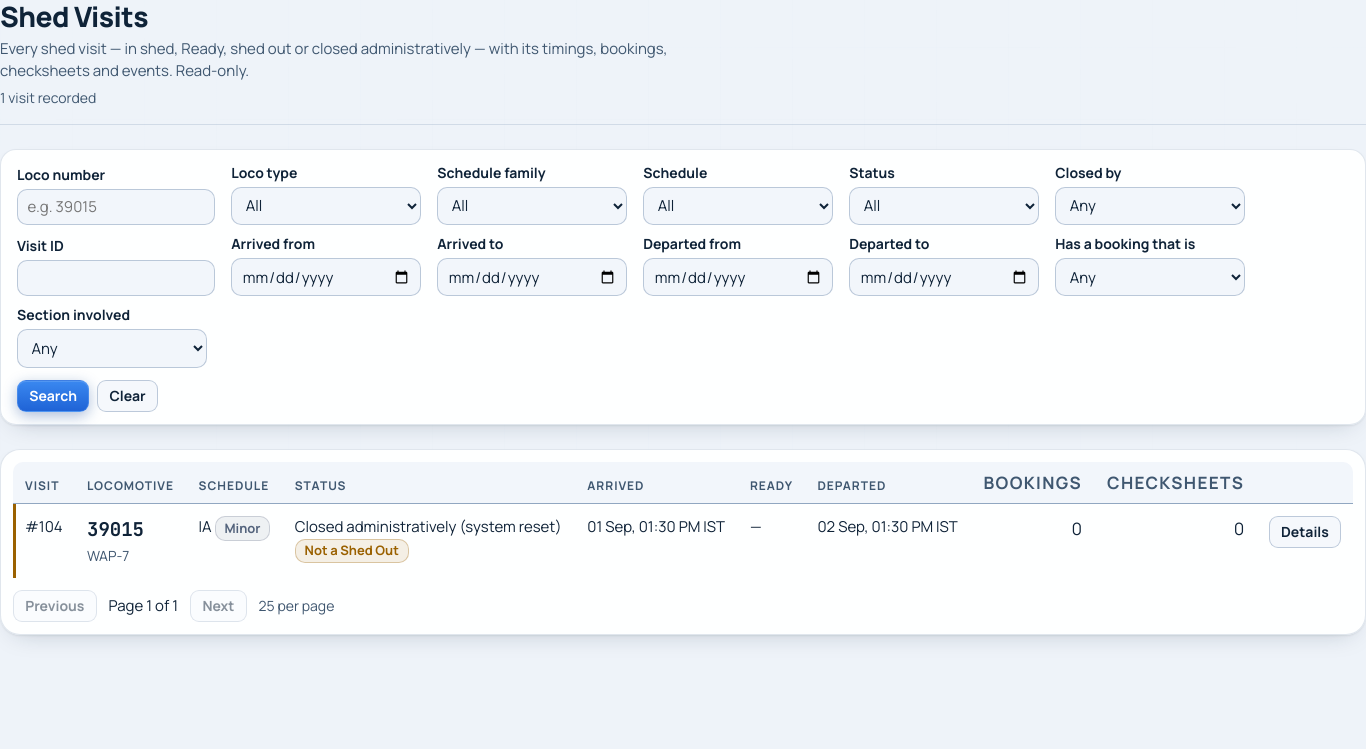
Test case: Shed Visit History - one visit opened › names an administrative reset in the detail too
The image size is (1366, 749).
Click the button "Details".
click(1305, 532)  # box [1269, 516, 1341, 548]
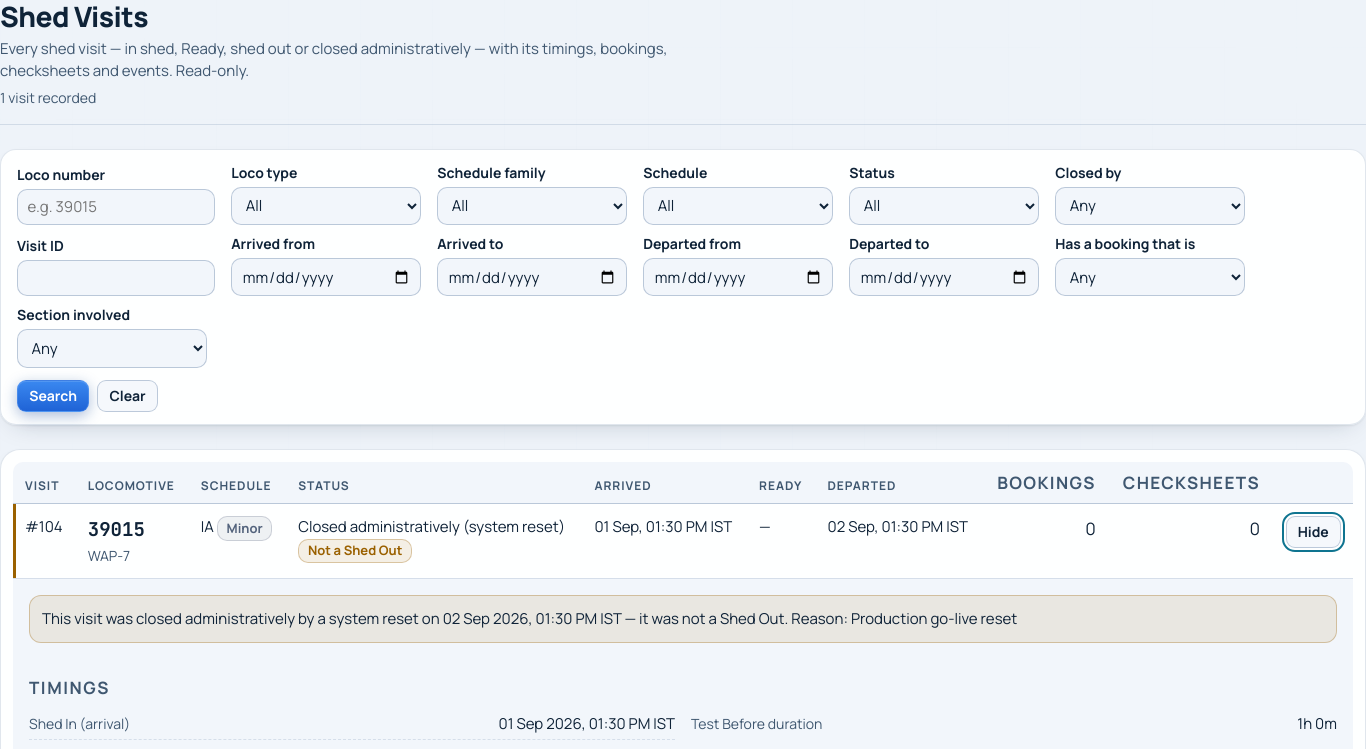
Result: the heading "Timings" is shown at [29, 676, 110, 699]
Result: the text "closed administratively by a system reset" is shown at [42, 608, 419, 629]
Result: the text "it was not a Shed Out" is shown at [621, 608, 788, 629]
